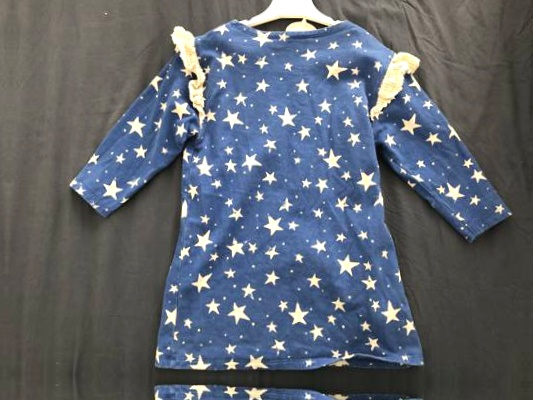Dress: (61, 0, 506, 380), (52, 379, 497, 400)
